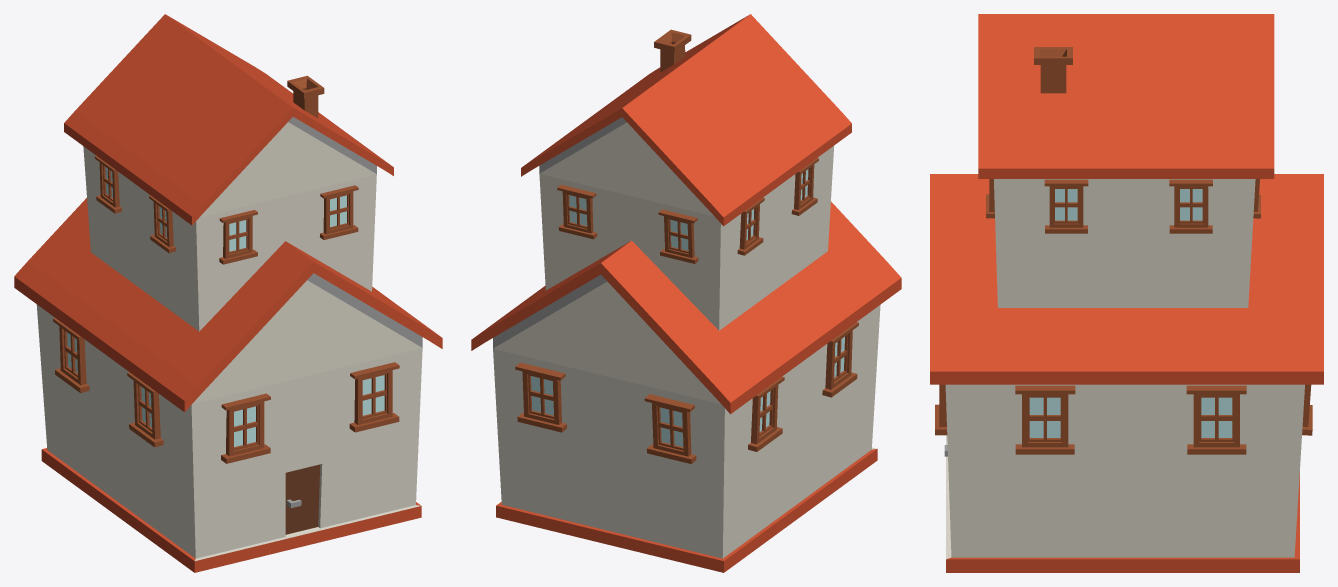
The model's file is q-house3.glb.
3 renders of one model, left to right at view 1: azimuth 30°, elevation 25°; view 2: azimuth 150°, elevation 25°; view 3: azimuth 270°, elevation 25°, orthographic. The views are drawn at different scales.
Parts seen in each view (by area): view 1: House3_Cube.034; view 2: House3_Cube.034; view 3: House3_Cube.034.
Part boxes in pixels (x1=…): House3_Cube.034: x1=14, y1=14, x2=442, y2=572; House3_Cube.034: x1=471, y1=14, x2=901, y2=572; House3_Cube.034: x1=930, y1=14, x2=1323, y2=572.
Bounding box in the file's own units: 1.25 × 1.99 × 1.43.
1 material, 1 textured.
